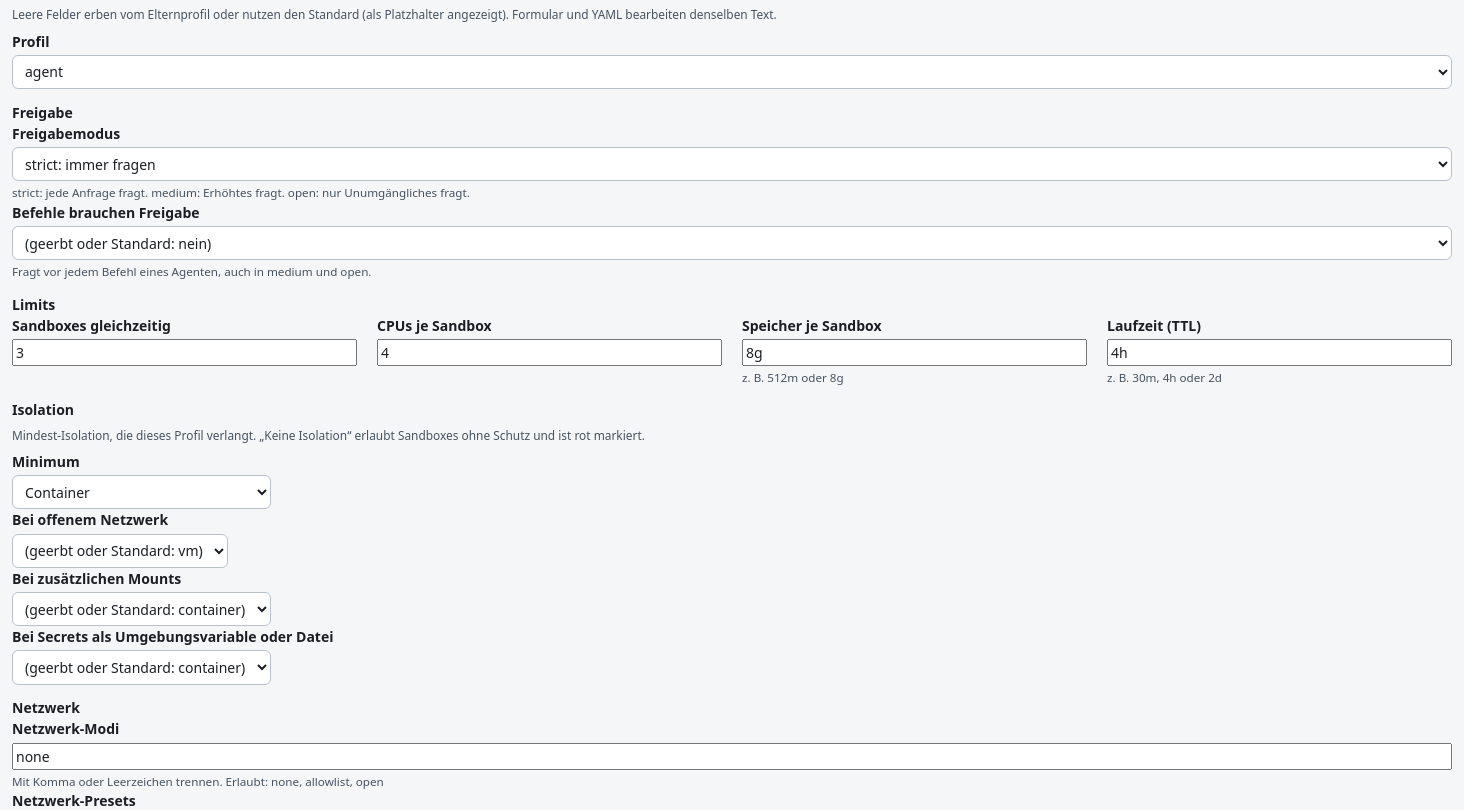
PolicyForm › marks isolation "none" in red, in the select and next to it
Select "⚠ Keine Isolation" in the dropdown labelled "Minimum" at (142, 492), box 12,475 -> 271,509
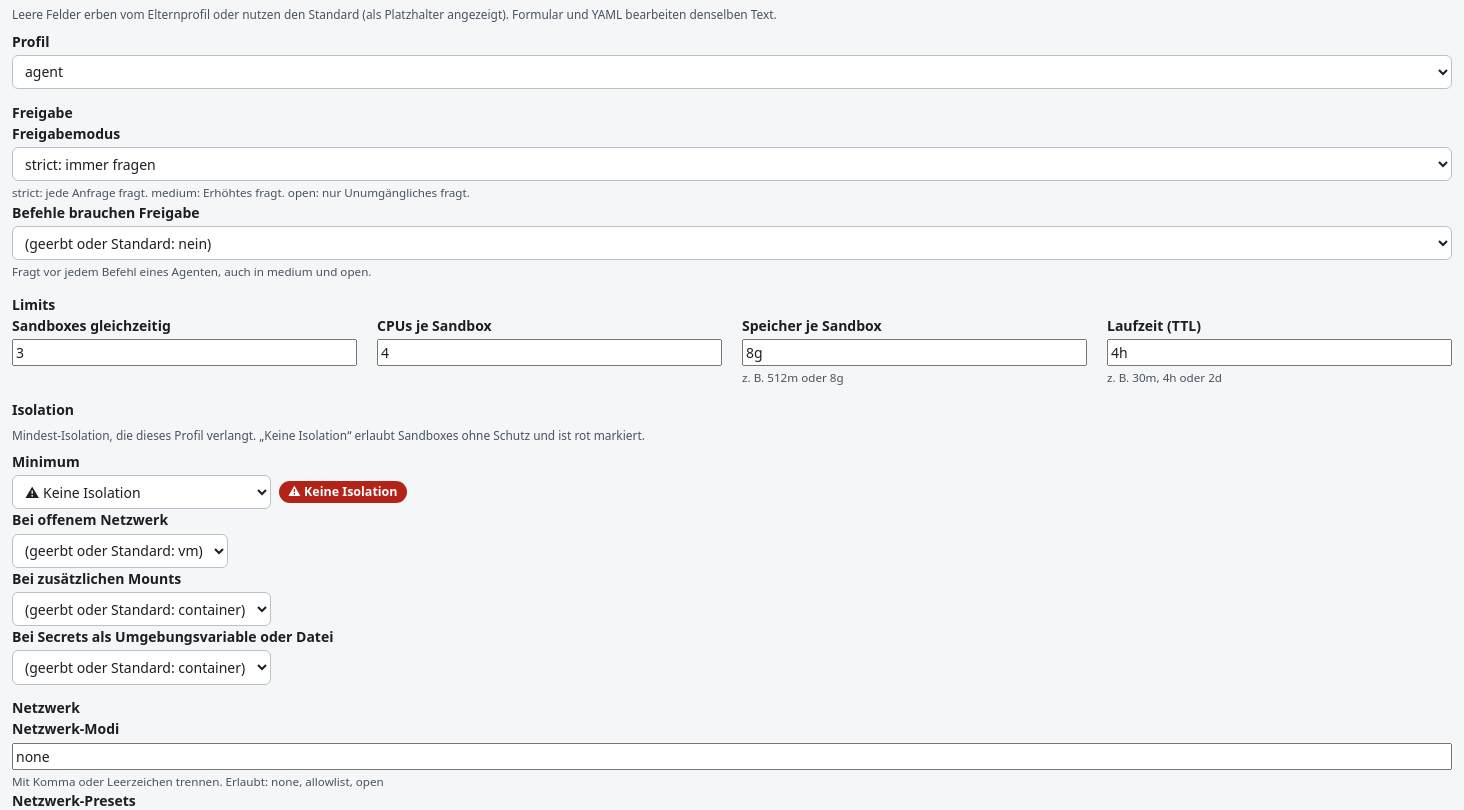
Now the text with class "badge-strong-danger" shows "Keine Isolation", box 288,483 -> 398,500
